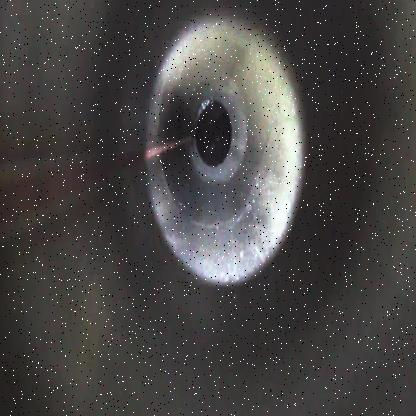NoCrack: (143, 14, 305, 289)
